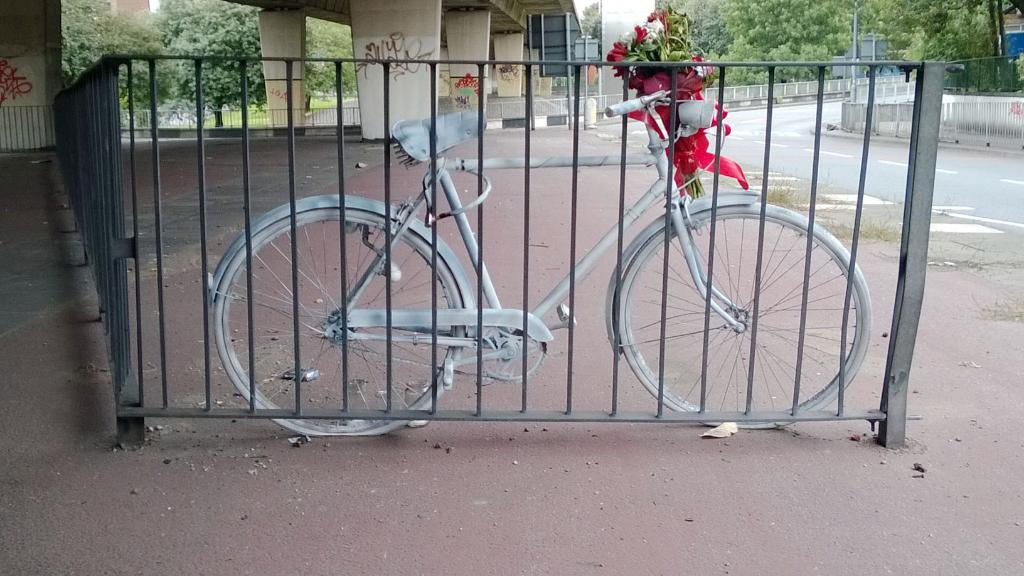Bike_toward: (197, 107, 882, 476)
